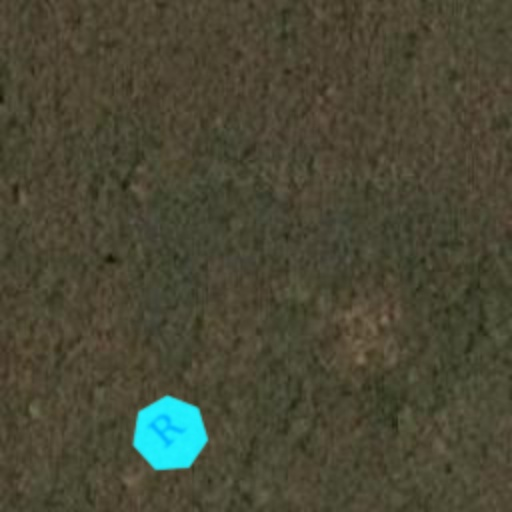heptagon: (114, 378, 226, 490)
